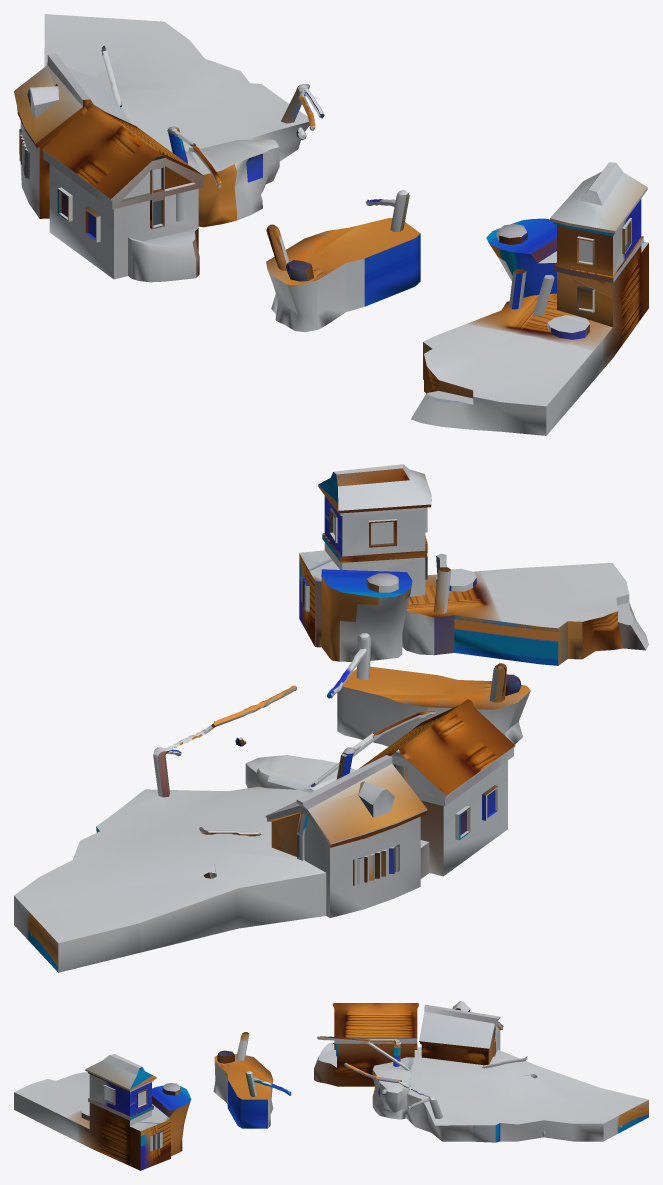
The model's file is calles.fbx.
3 views of the same model, one above another, from view 1: azimuth 30°, elevation 25°; view 2: azimuth 150°, elevation 25°; view 3: azimuth 270°, elevation 25° (orthographic). The views are drawn at different scales.
Parts seen in each view (by area): view 1: texture_pbr_v128; view 2: texture_pbr_v128; view 3: texture_pbr_v128.
Part boxes in pixels (x1,y1,x2,y2): texture_pbr_v128: [14, 14, 648, 435]; texture_pbr_v128: [14, 464, 648, 972]; texture_pbr_v128: [14, 1001, 648, 1170].
Bounding box in the file's own units: 1736 × 679 × 4208.
